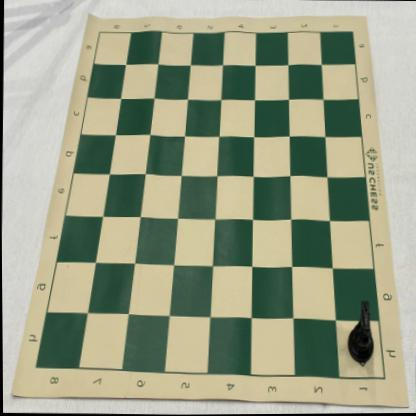black-knight: (346, 300, 374, 363)
